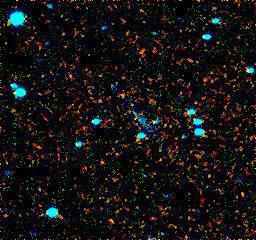star: (109, 80, 139, 110)
